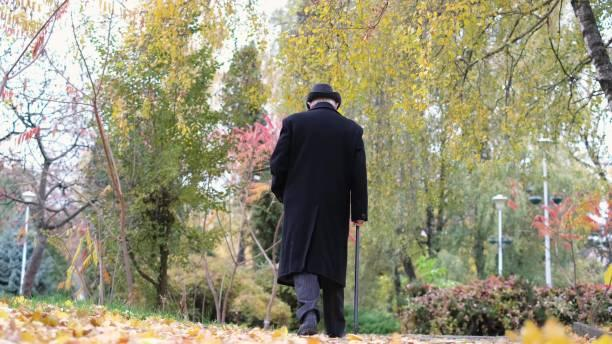Human: (261, 77, 379, 344)
